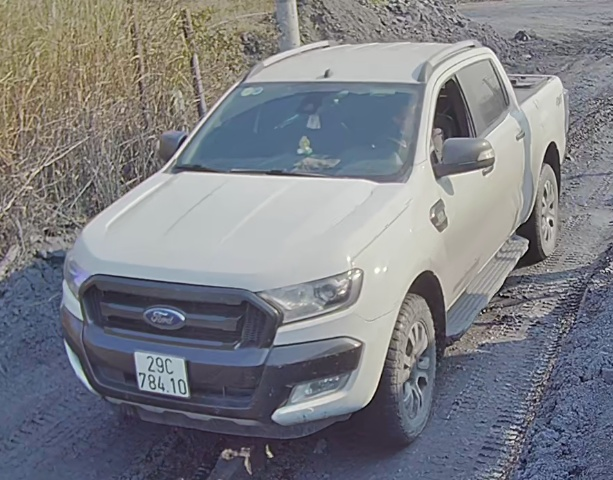vehicle plate: (134, 347, 190, 401)
